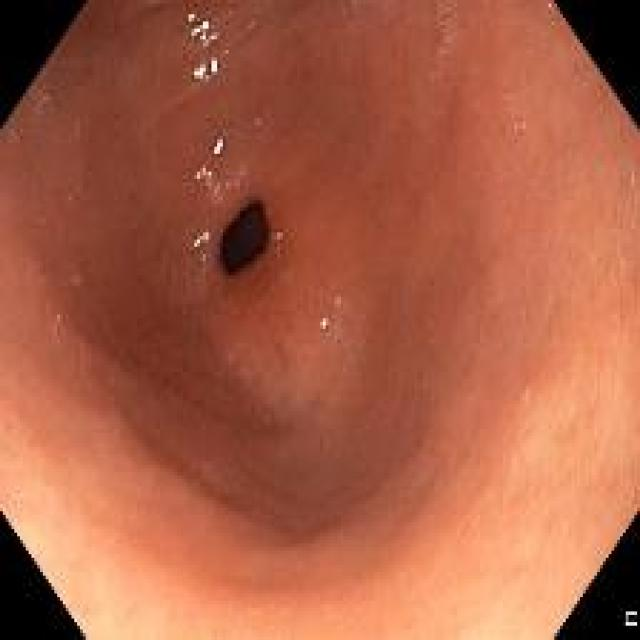bubbles: (503, 89, 516, 110), (218, 44, 231, 61), (513, 117, 526, 131), (198, 253, 208, 265)
contrast: (219, 198, 269, 278)
specularity: (189, 17, 210, 42), (212, 138, 223, 158), (193, 64, 204, 79), (319, 317, 329, 330), (210, 61, 218, 75), (187, 12, 193, 23)
